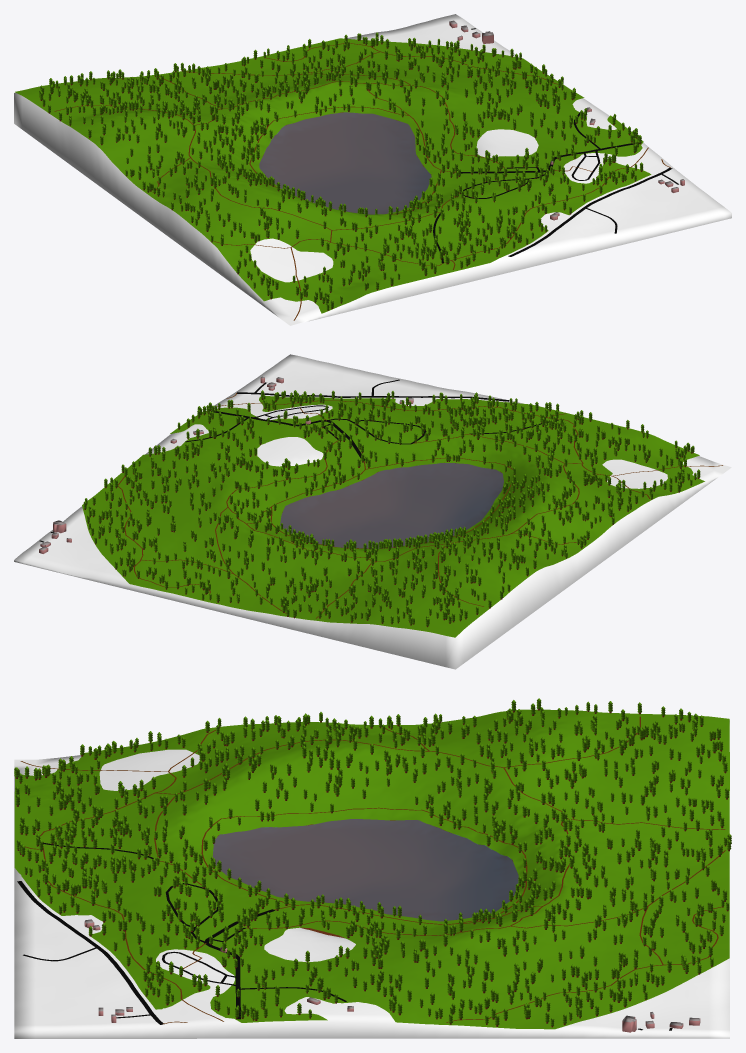
File: mainpage.glb
3 views of the same model, one above another, from view 1: azimuth 30°, elevation 25°; view 2: azimuth 150°, elevation 25°; view 3: azimuth 270°, elevation 25° (orthographic). The views are drawn at different scales.
Visible parts, largest first — view 1: map_3.osm_forest, Terrain, map_3.osm_water, map_3.osm_paths_footway, map_3.osm_roads_service, map_3.osm_buildings, map_3.osm_roads_tertiary; view 2: map_3.osm_forest, Terrain, map_3.osm_water, map_3.osm_paths_footway, map_3.osm_roads_service, map_3.osm_buildings; view 3: map_3.osm_forest, Terrain, map_3.osm_water, map_3.osm_paths_footway, map_3.osm_roads_service, map_3.osm_buildings, map_3.osm_roads_tertiary.
Boxes of the visible parts, bbox=[...] form: map_3.osm_forest: bbox=[15, 38, 651, 313]; Terrain: bbox=[14, 14, 731, 325]; map_3.osm_water: bbox=[259, 112, 431, 214]; map_3.osm_paths_footway: bbox=[54, 43, 670, 320]; map_3.osm_roads_service: bbox=[433, 28, 678, 263]; map_3.osm_buildings: bbox=[449, 20, 684, 220]; map_3.osm_roads_tertiary: bbox=[508, 167, 672, 256]; map_3.osm_forest: bbox=[82, 396, 704, 637]; Terrain: bbox=[14, 354, 731, 669]; map_3.osm_water: bbox=[280, 463, 503, 548]; map_3.osm_paths_footway: bbox=[118, 393, 722, 618]; map_3.osm_roads_service: bbox=[39, 379, 558, 542]; map_3.osm_buildings: bbox=[39, 376, 413, 553]; map_3.osm_forest: bbox=[14, 709, 729, 1029]; Terrain: bbox=[14, 720, 729, 1038]; map_3.osm_water: bbox=[213, 819, 518, 921]; map_3.osm_paths_footway: bbox=[20, 716, 725, 1024]; map_3.osm_roads_service: bbox=[23, 842, 672, 1030]; map_3.osm_buildings: bbox=[84, 919, 700, 1032]; map_3.osm_roads_tertiary: bbox=[17, 881, 164, 1024].
Size of the model in its own units: 16.79 by 2.7 by 18.2.
